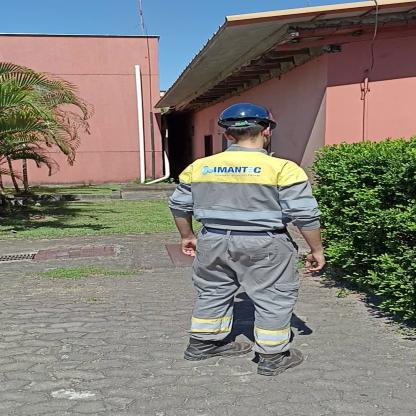Capacete: (218, 99, 278, 121)
